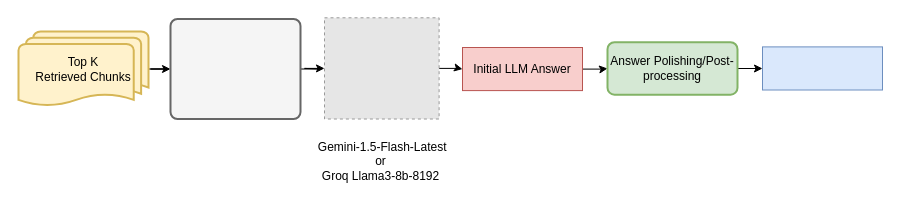
Some shapes in this 900 by 209 pixel diagram are drawn without their labels. Grey dashed boxes stand in for pictures. Each missing label, with the centre of its shape:
"Final Answer to User" goes at (x=822, y=68).
"Prompt Construction (user question + retrieved context)" goes at (x=235, y=69).
